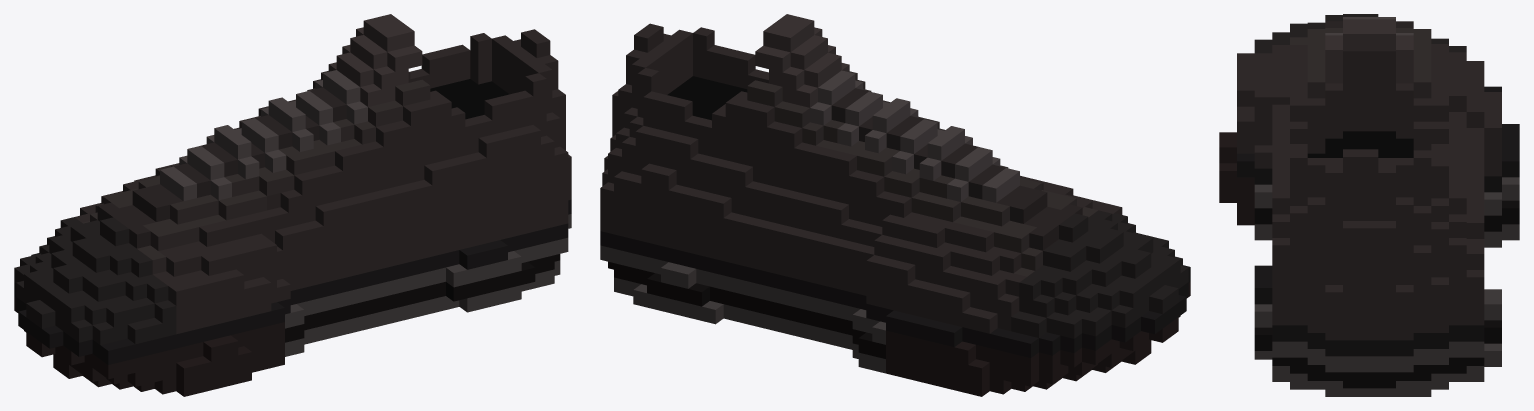
Rendered from Night Rider.fbx.
The picture shows the model from 3 angles, left to right: view 1: azimuth 30°, elevation 25°; view 2: azimuth 150°, elevation 25°; view 3: azimuth 270°, elevation 25°; orthographic projection. The views are drawn at different scales.
Parts seen in each view (by area): view 1: Untitled; view 2: Untitled; view 3: Untitled.
Boxes of the visible parts, box(x1,y1,x2,y2) form: Untitled: box(14, 14, 571, 396); Untitled: box(600, 14, 1190, 396); Untitled: box(1219, 14, 1519, 396).
Bounding box in the file's own units: 390 × 180 × 170.
